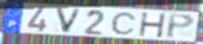2: (82, 9, 107, 37)
4: (26, 5, 50, 33)
C: (110, 12, 138, 36)
H: (138, 12, 168, 39)
P: (166, 13, 196, 40)
V: (54, 7, 83, 35)
